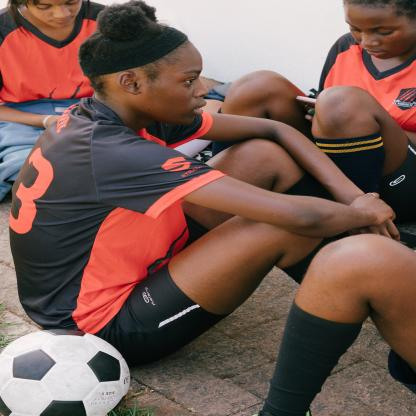ball: (0, 329, 131, 416)
